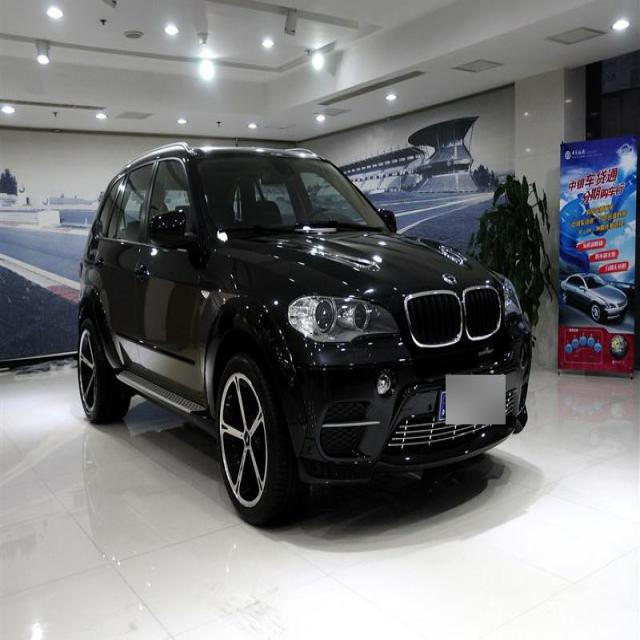front_bumper: (283, 318, 530, 484)
front_glass: (196, 154, 386, 234)
front_left_side_light: (500, 279, 522, 317)
front_right_side_door: (138, 151, 205, 400)
front_right_side_light: (286, 294, 401, 346)
front_right_side_mirror: (148, 206, 189, 252)
wheel: (216, 357, 279, 526), (79, 323, 106, 416)
